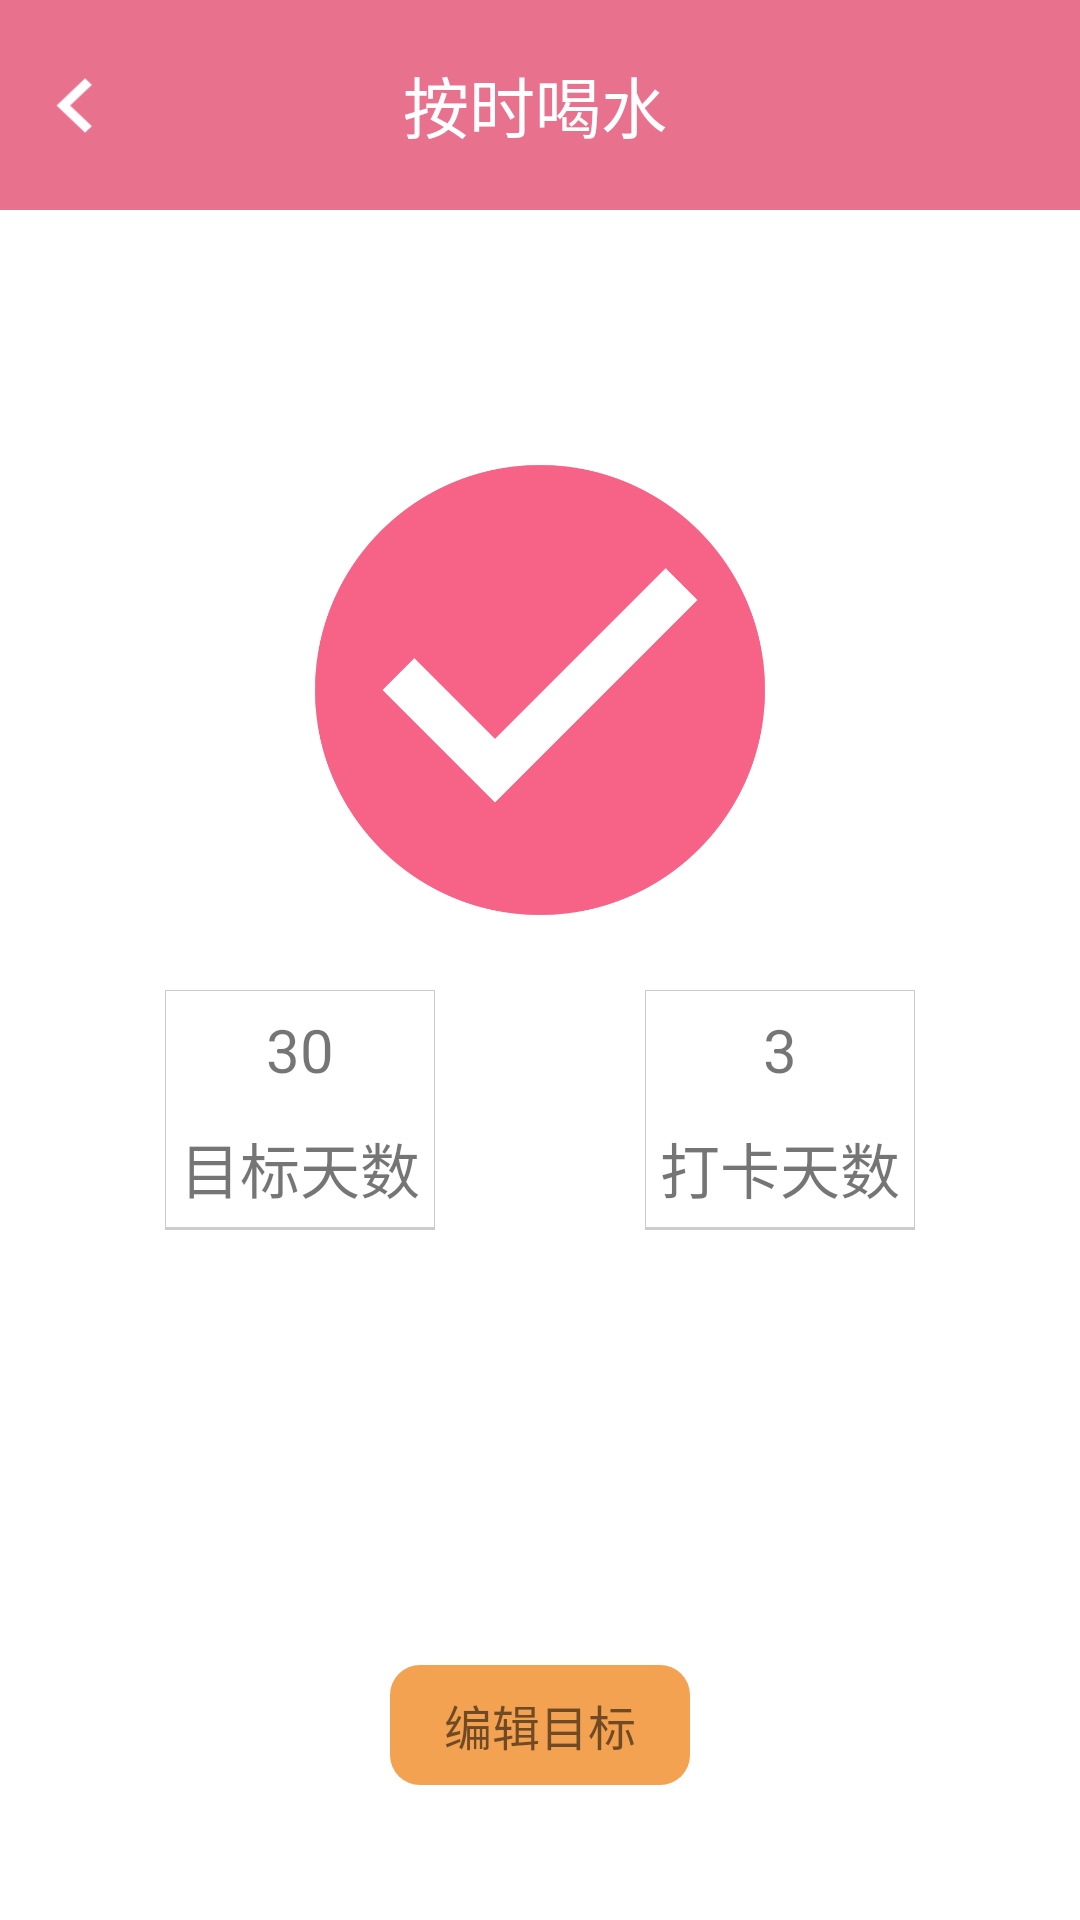

Icons on this 1080*1920 Android screen, each with the point to tap as (x=x, y=y):
back: (x=74, y=105)
